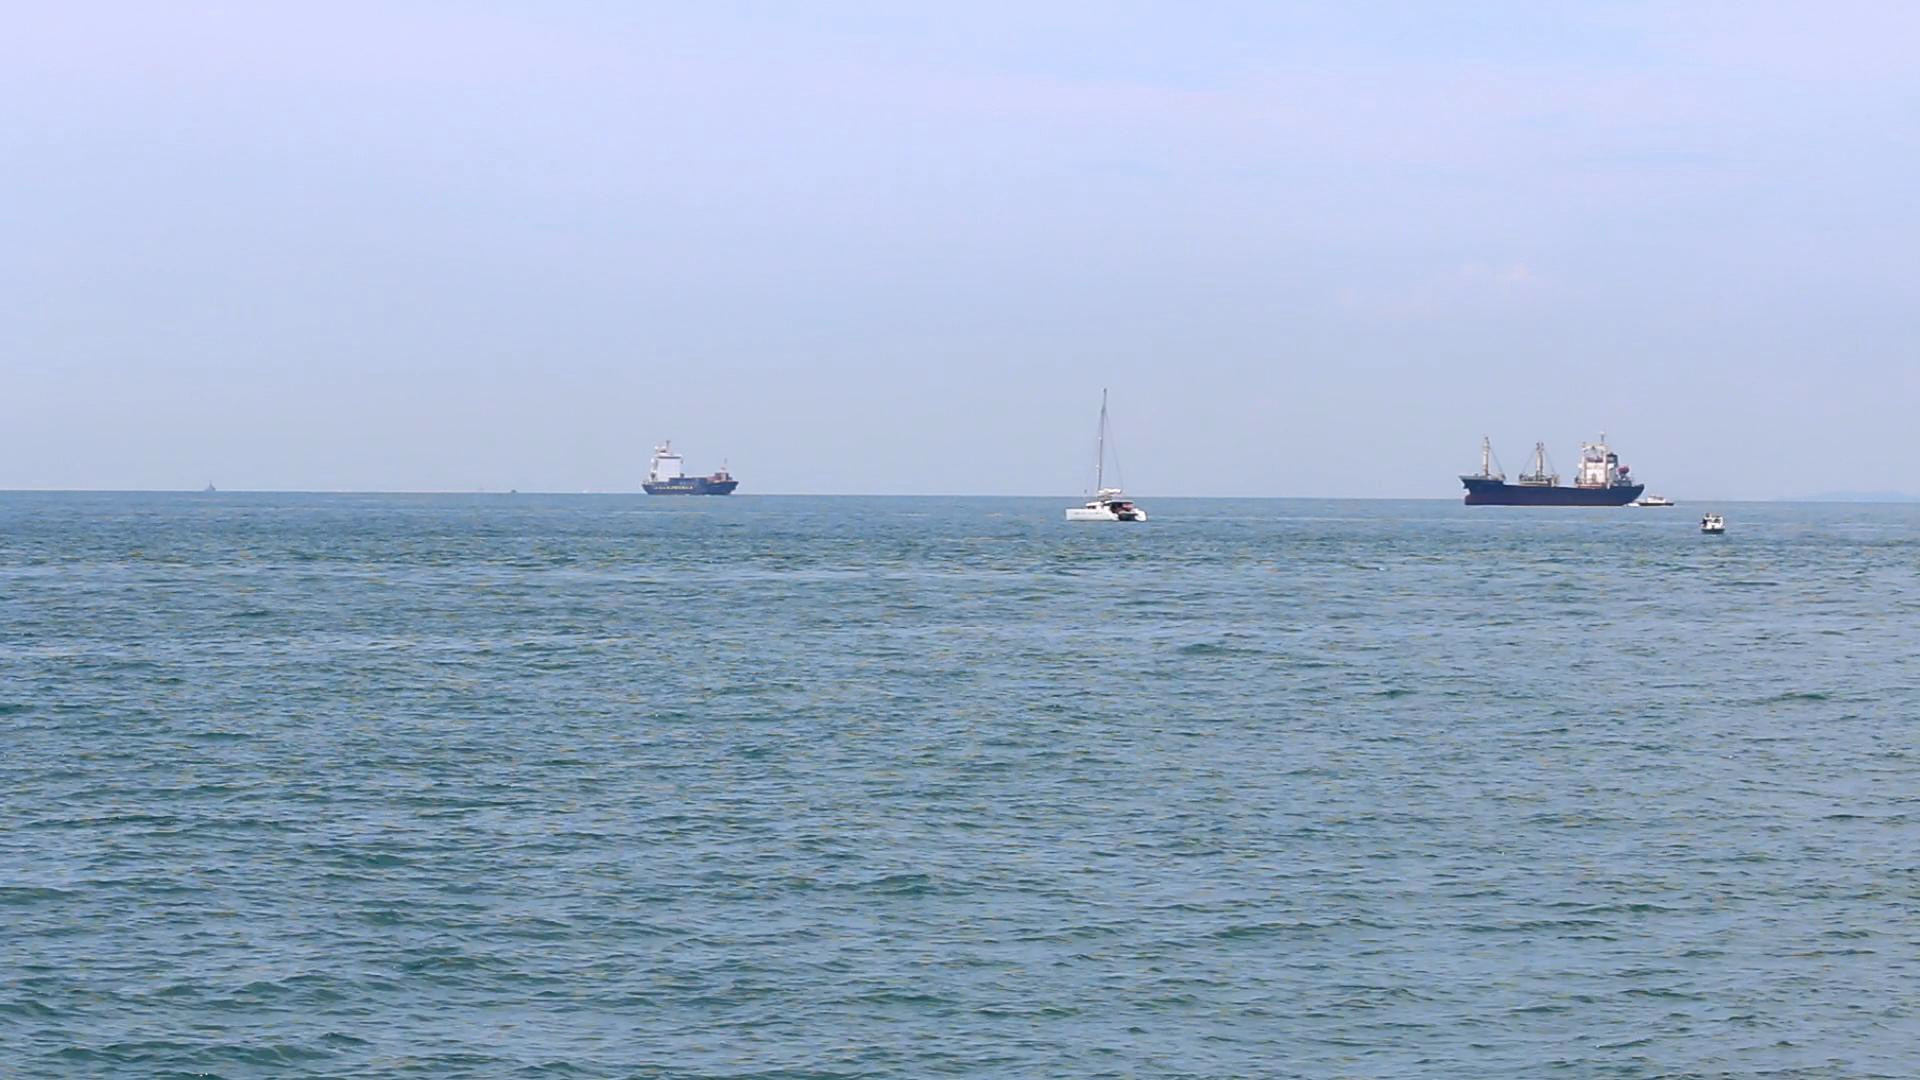Container Ship: (1460, 434, 1648, 508), (638, 438, 738, 498)
